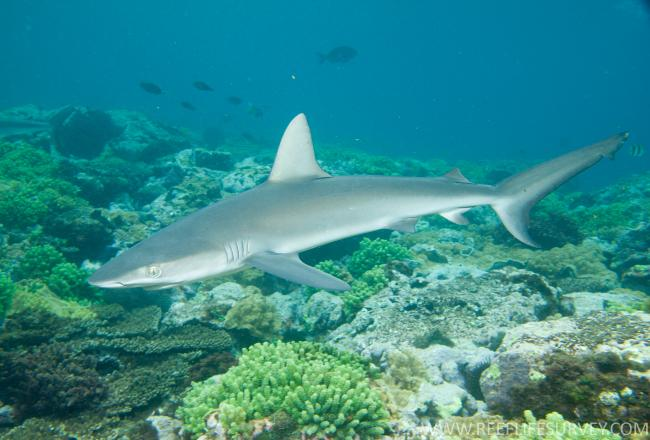fish: (88, 113, 628, 292)
